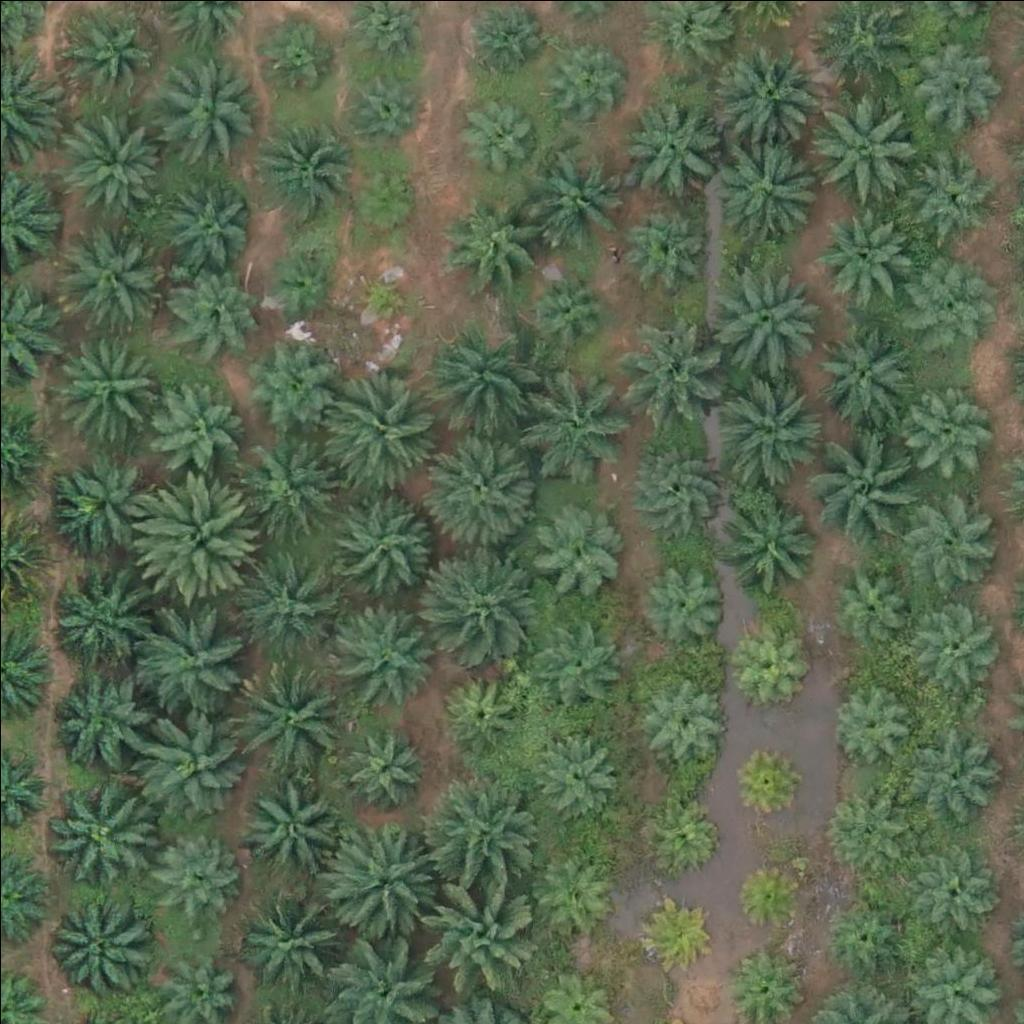Kelapa_Sawit: (128, 472, 253, 598), (138, 606, 251, 720), (714, 263, 827, 377), (237, 877, 350, 991), (236, 659, 349, 772), (232, 547, 345, 660), (325, 492, 438, 605), (428, 431, 541, 544), (709, 37, 822, 150), (717, 133, 830, 246), (44, 776, 157, 889), (421, 774, 534, 887), (131, 701, 244, 814), (429, 328, 541, 442), (712, 367, 824, 481), (810, 90, 922, 204), (39, 890, 151, 1004), (416, 869, 528, 983), (333, 591, 445, 704), (328, 374, 440, 487), (431, 540, 543, 653), (618, 323, 730, 436), (814, 429, 926, 542), (326, 827, 438, 940), (44, 567, 144, 668), (58, 330, 158, 431), (63, 218, 163, 319), (67, 110, 167, 211), (241, 438, 341, 539), (239, 337, 339, 438), (447, 189, 547, 290), (533, 140, 633, 241), (533, 368, 633, 469), (623, 92, 723, 193), (720, 492, 820, 593), (817, 324, 917, 425), (896, 487, 996, 588), (238, 774, 338, 875), (900, 723, 1000, 824), (248, 123, 348, 224), (49, 661, 149, 761), (59, 461, 159, 561), (156, 59, 256, 159), (526, 503, 626, 603), (628, 435, 728, 535), (171, 263, 259, 351), (438, 666, 526, 754), (524, 264, 612, 352), (643, 673, 731, 761), (817, 204, 905, 292), (915, 36, 1003, 124), (917, 601, 1005, 689), (821, 893, 909, 981), (821, 775, 909, 863), (338, 721, 426, 809), (530, 842, 618, 930), (910, 845, 998, 933), (169, 175, 256, 264), (539, 615, 626, 704), (62, 5, 149, 93), (154, 383, 241, 471), (337, 61, 424, 149), (642, 557, 729, 645), (620, 195, 707, 283), (826, 677, 913, 765), (829, 553, 916, 641), (915, 158, 1002, 246), (906, 270, 993, 358), (903, 385, 990, 473), (153, 932, 240, 1020), (148, 827, 235, 915), (532, 733, 619, 821), (649, 799, 724, 875), (466, 90, 541, 166), (464, 2, 539, 78), (265, 242, 340, 318), (346, 155, 421, 231), (732, 619, 807, 695), (727, 746, 802, 822), (634, 895, 709, 971), (258, 21, 333, 96), (546, 36, 621, 111), (732, 857, 807, 932), (352, 267, 414, 330)
